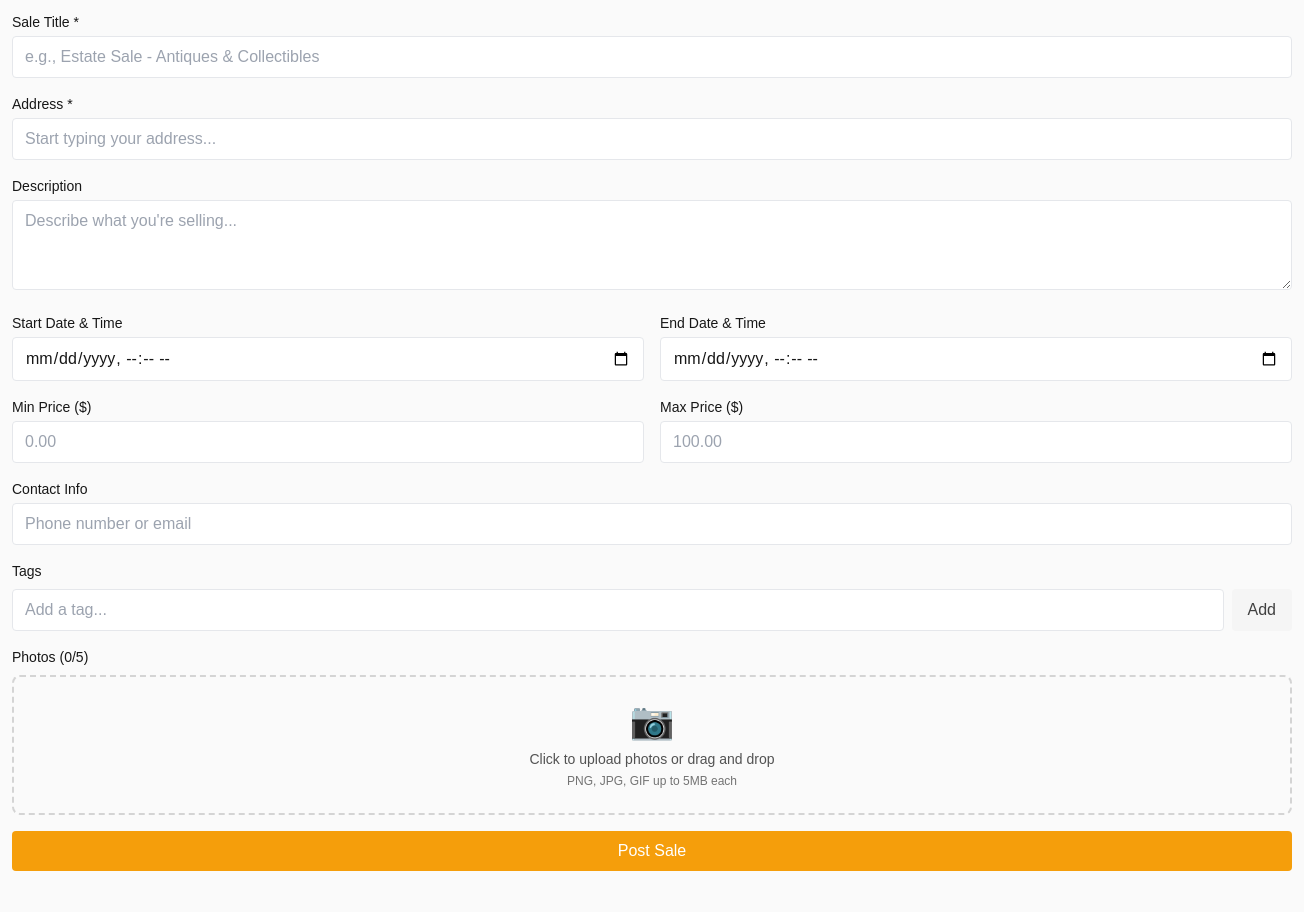
AddSaleForm Accessibility › should support adding tags with Enter key
Type a tag and press Enter
In the field with placeholder "Add a tag...": [618, 610] box [12,589,1224,631], type "furniture"
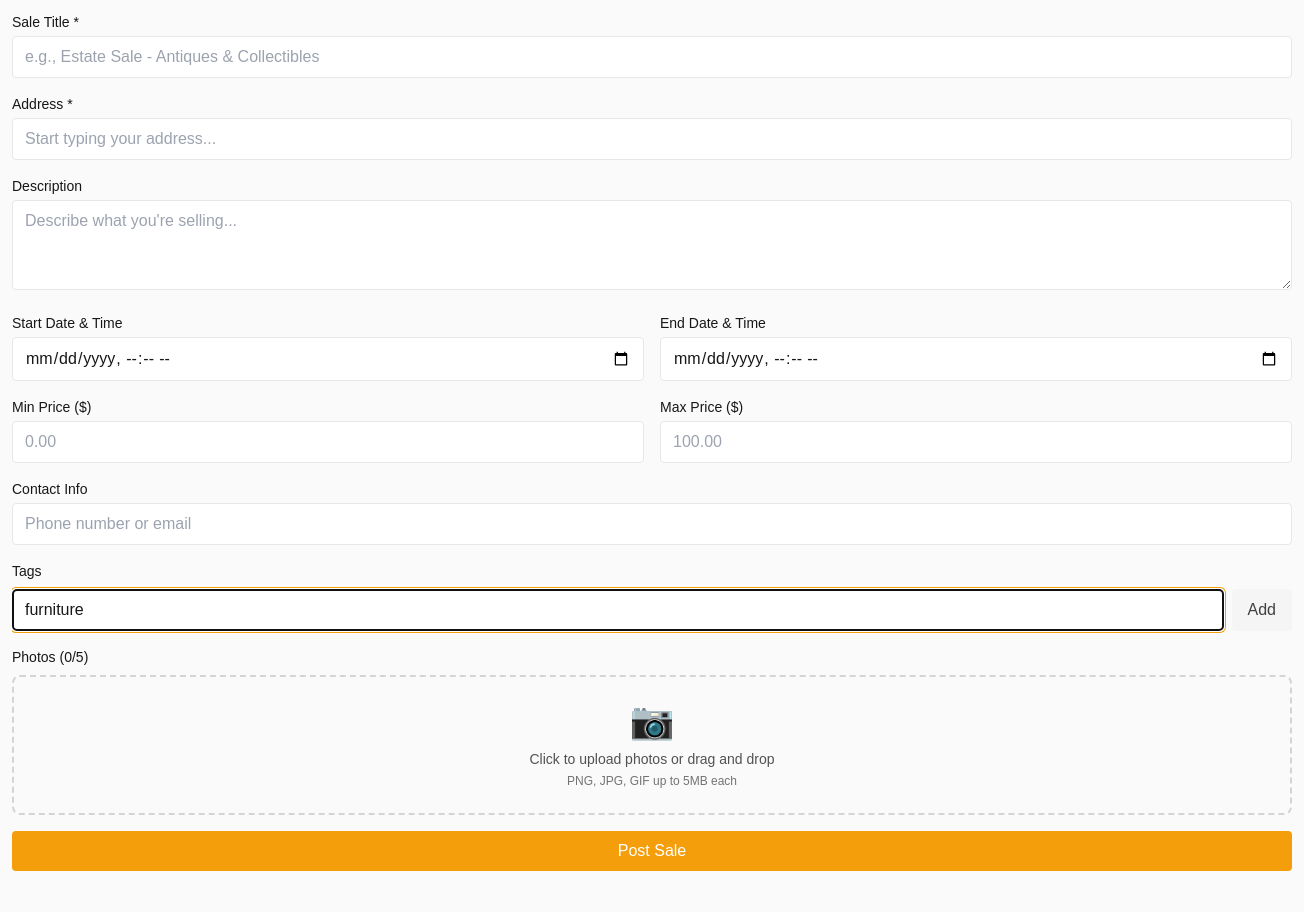
Press Enter
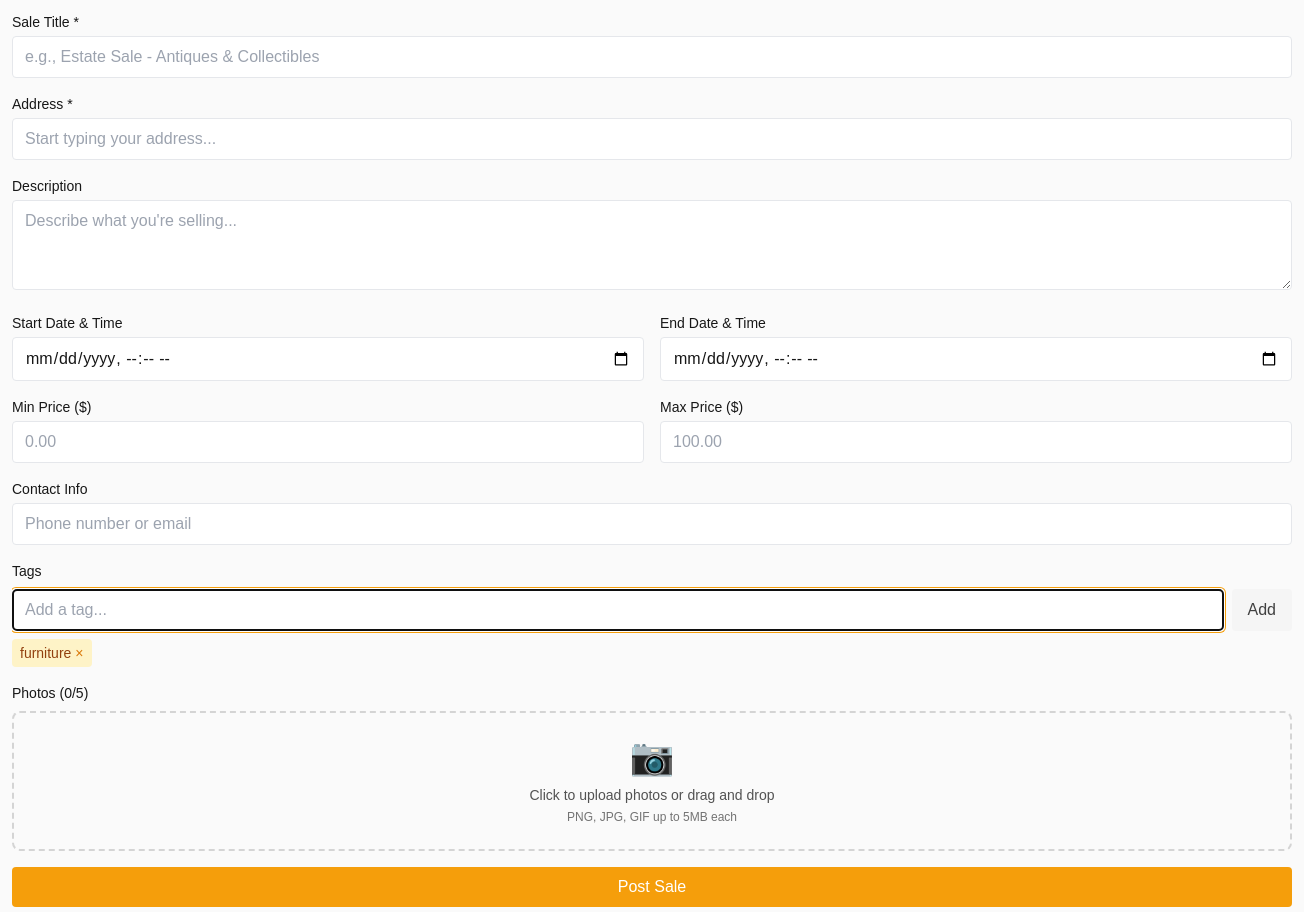
Check: the text "furniture" is shown, box [20,645,71,661]
